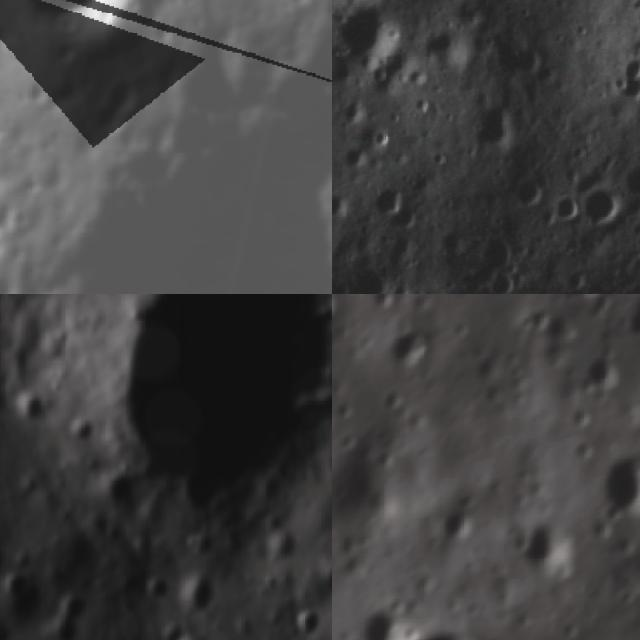crater: (0, 86, 332, 294), (93, 294, 332, 532), (1, 0, 144, 58), (337, 0, 401, 68), (518, 519, 577, 576), (602, 448, 640, 517), (570, 185, 624, 233), (437, 495, 481, 550), (174, 568, 217, 619), (393, 323, 431, 379), (581, 350, 622, 393), (374, 171, 405, 227), (102, 471, 138, 513), (356, 617, 416, 640), (10, 389, 47, 424), (291, 605, 328, 640), (617, 154, 640, 205), (140, 566, 170, 604), (550, 189, 584, 222), (0, 258, 31, 294), (40, 614, 82, 640), (54, 588, 89, 619), (0, 568, 29, 602), (319, 558, 332, 593), (374, 294, 397, 311)
